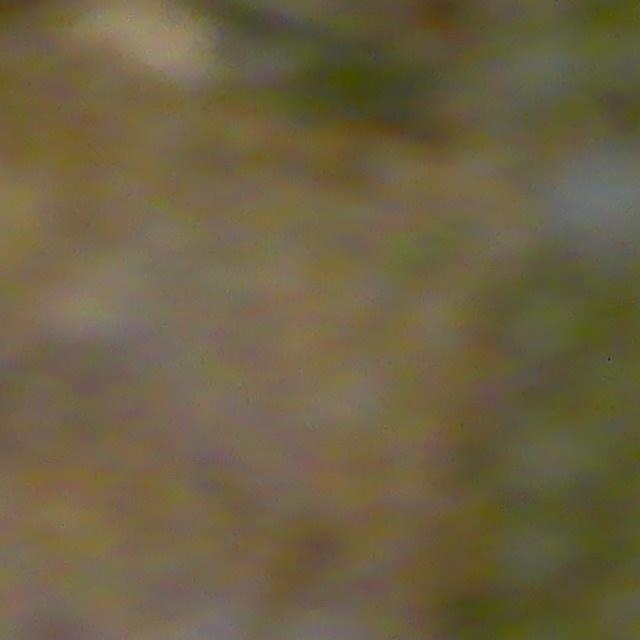SeaGrape: (434, 396, 626, 513), (497, 268, 635, 381), (464, 509, 622, 601)
